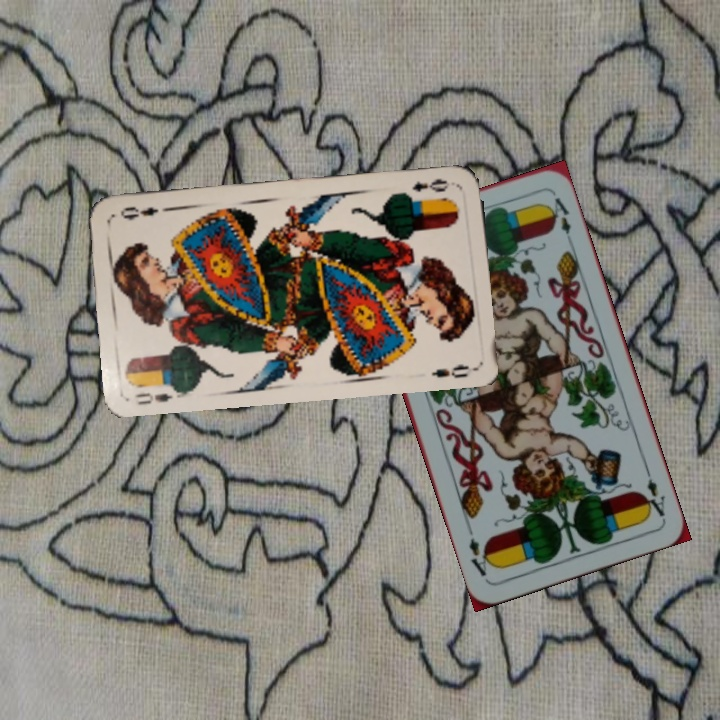EA: (639, 464, 668, 520)
EO: (131, 380, 185, 408), (408, 175, 458, 195)
